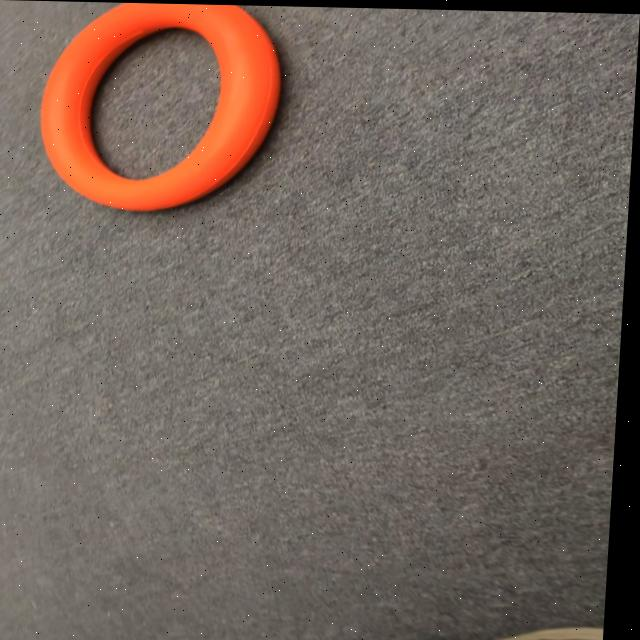note: (34, 2, 283, 207)
